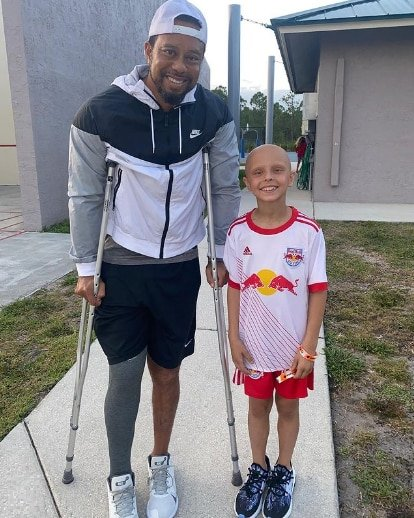crutches: (61, 1, 242, 518)
